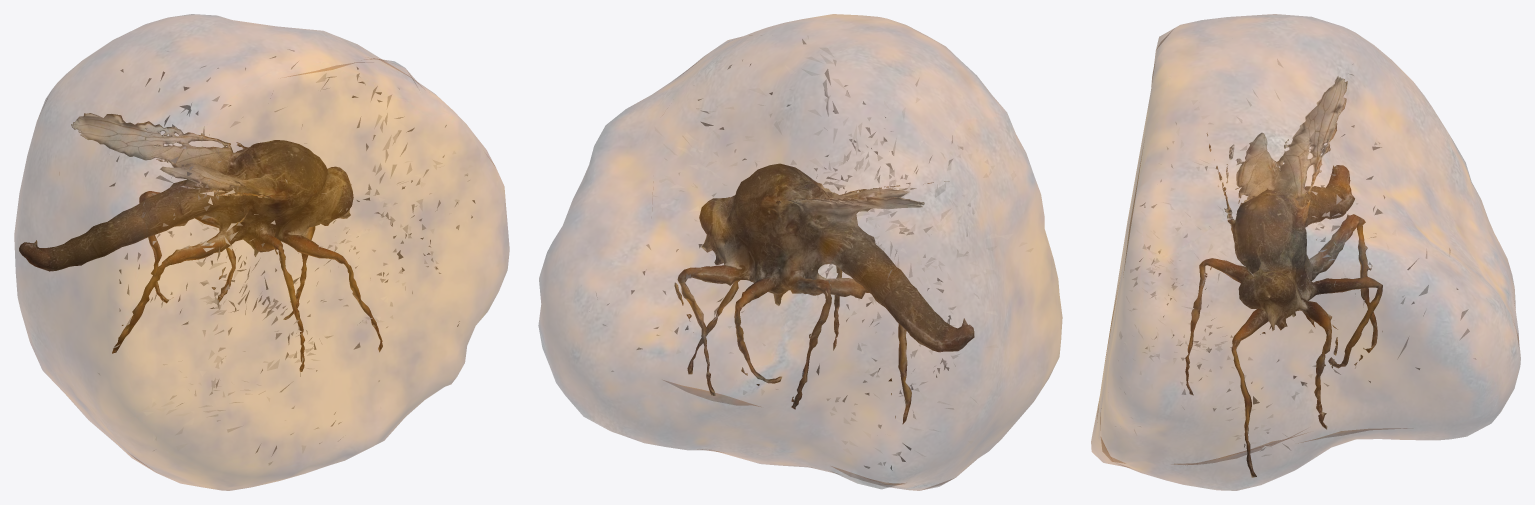
The model's file is MosquitoInAmber.glb.
The picture shows the model from 3 angles, left to right: view 1: azimuth 30°, elevation 25°; view 2: azimuth 150°, elevation 25°; view 3: azimuth 270°, elevation 25°; orthographic projection. The views are drawn at different scales.
Visible parts, largest first — view 1: 5_amber_lr, 2_mosquito_lr, 6_eclats; view 2: 5_amber_lr, 2_mosquito_lr, 6_eclats; view 3: 5_amber_lr, 2_mosquito_lr, 6_eclats.
Part boxes in pixels (x1,y1,x2,y2): 5_amber_lr: (14, 14, 509, 490); 2_mosquito_lr: (19, 113, 382, 371); 6_eclats: (98, 49, 475, 465); 5_amber_lr: (538, 14, 1062, 490); 2_mosquito_lr: (674, 163, 974, 423); 6_eclats: (596, 35, 1036, 470); 5_amber_lr: (1091, 14, 1520, 490); 2_mosquito_lr: (1185, 76, 1382, 477); 6_eclats: (1109, 59, 1475, 456).
Size of the model in its own units: 0.0972 by 0.0997 by 0.0879.
3 materials, 2 textured.
